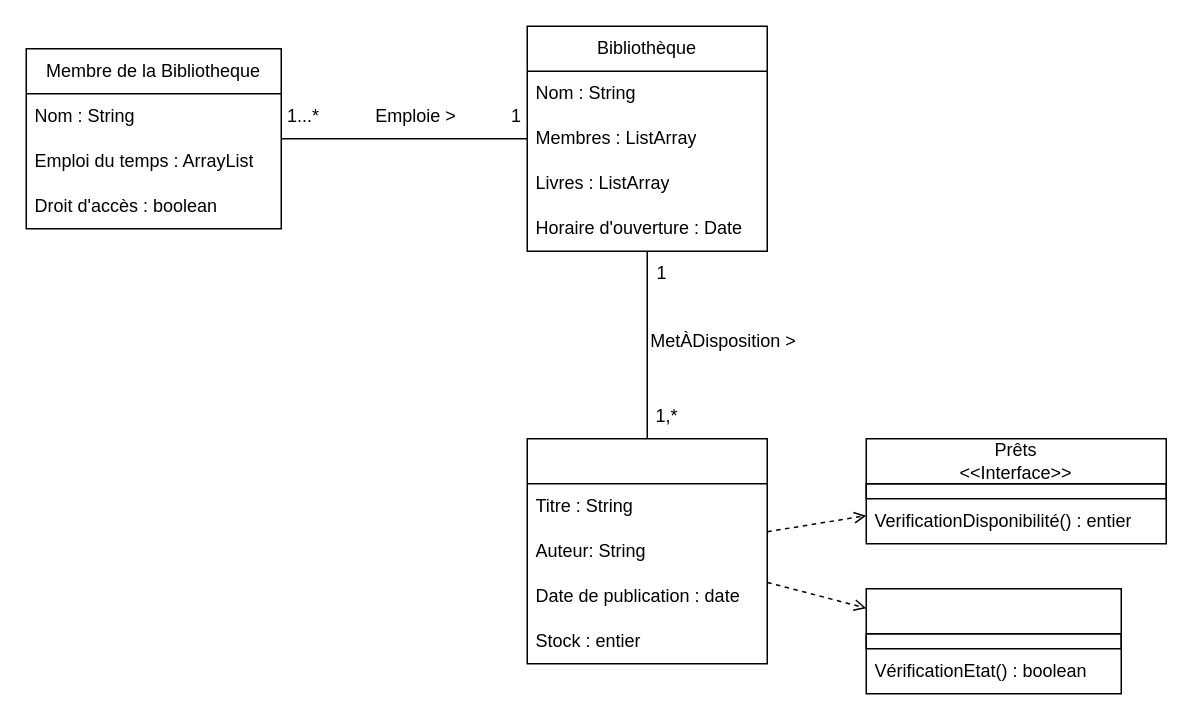
Image size: 1193x720. Some labels were removed from this diagram. The shapes that lost their labels are listed below. From the top down, each one's box as (x1, y1, x2, y2) in pixels, then its label:
(526, 437, 767, 664): Livre
(865, 587, 1121, 694): Retour <<Interface>>
